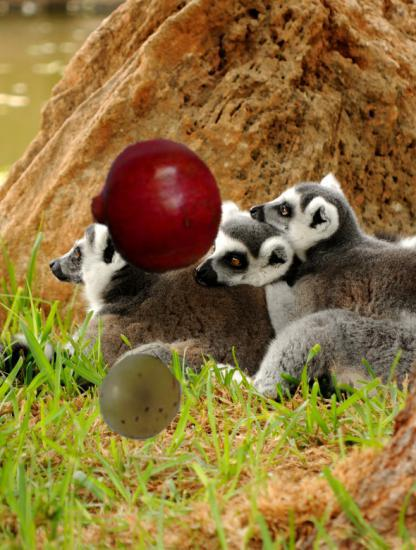Grape: (97, 356, 181, 440)
Pomegranate: (87, 138, 225, 276)
Redcurrant: (102, 149, 195, 242)
